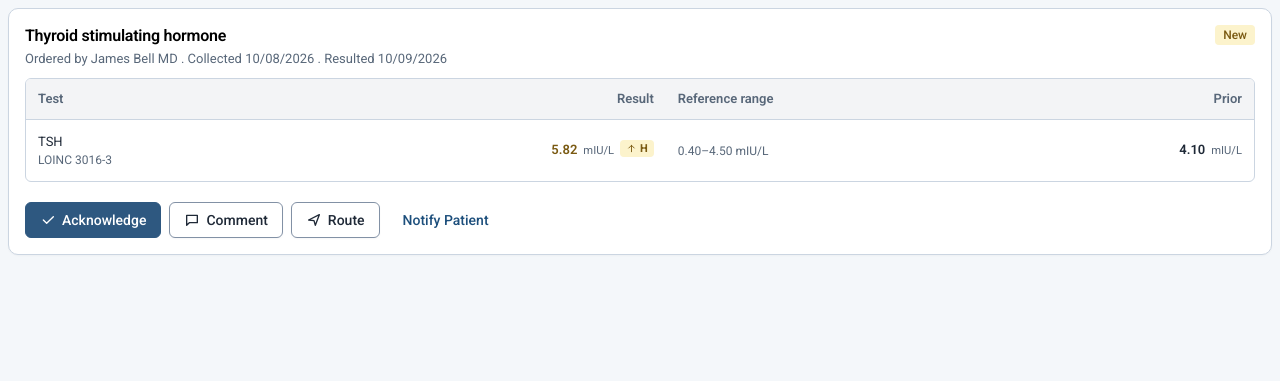
Test case: ResultsReview › routes to a person or pool
Click the button "Route" at (335, 220), box [291,202,380,238]
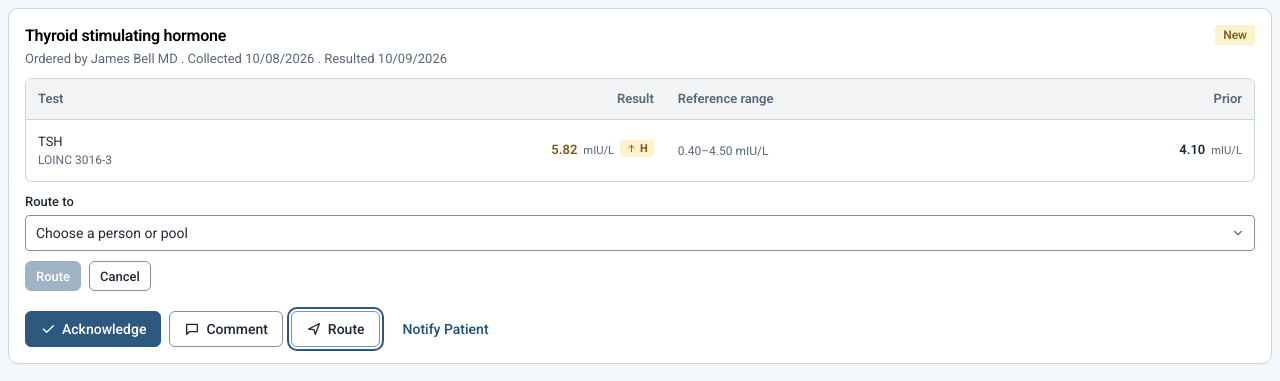
Check: the button "Route" below "Route to" is disabled, box [25,261,81,291]
Select "Lisa Chen RN" in the dropdown labelled "Route to" at (640, 233), box [25,215,1255,251]
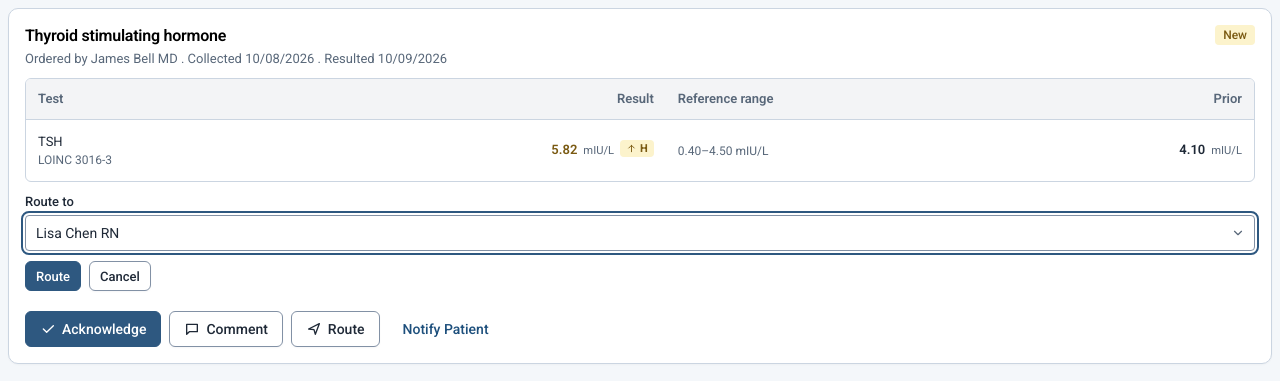
Click the button "Route" below "Route to" at (53, 276), box [25,261,81,291]
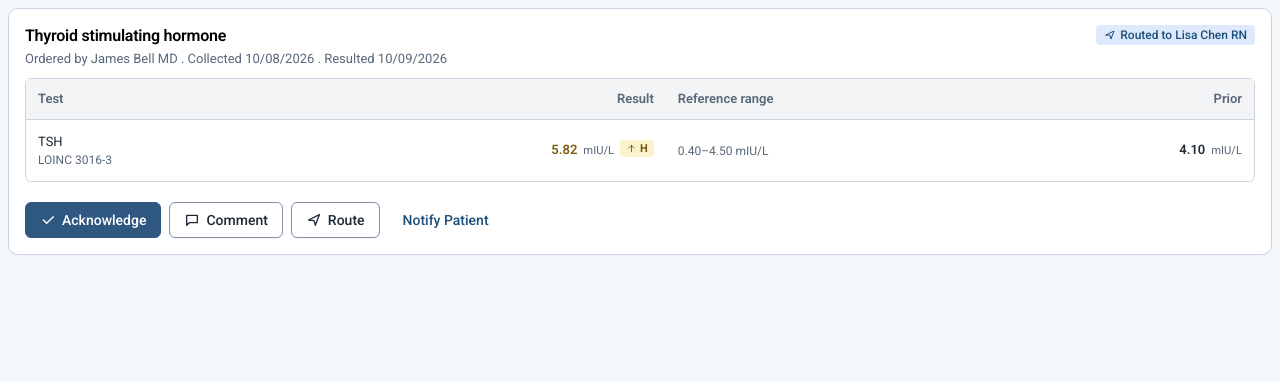
Check: the text "Routed to Lisa Chen RN" is shown, box [1096,25,1255,45]
